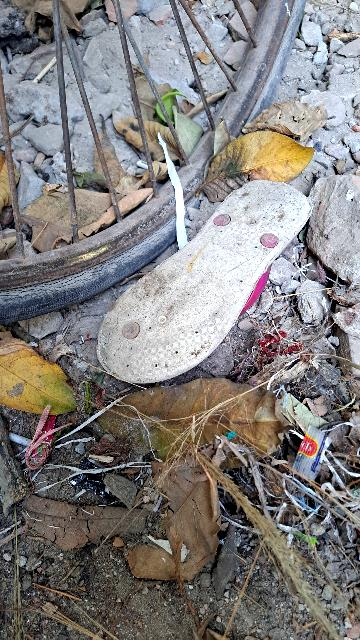sandal: (66, 135, 320, 407)
